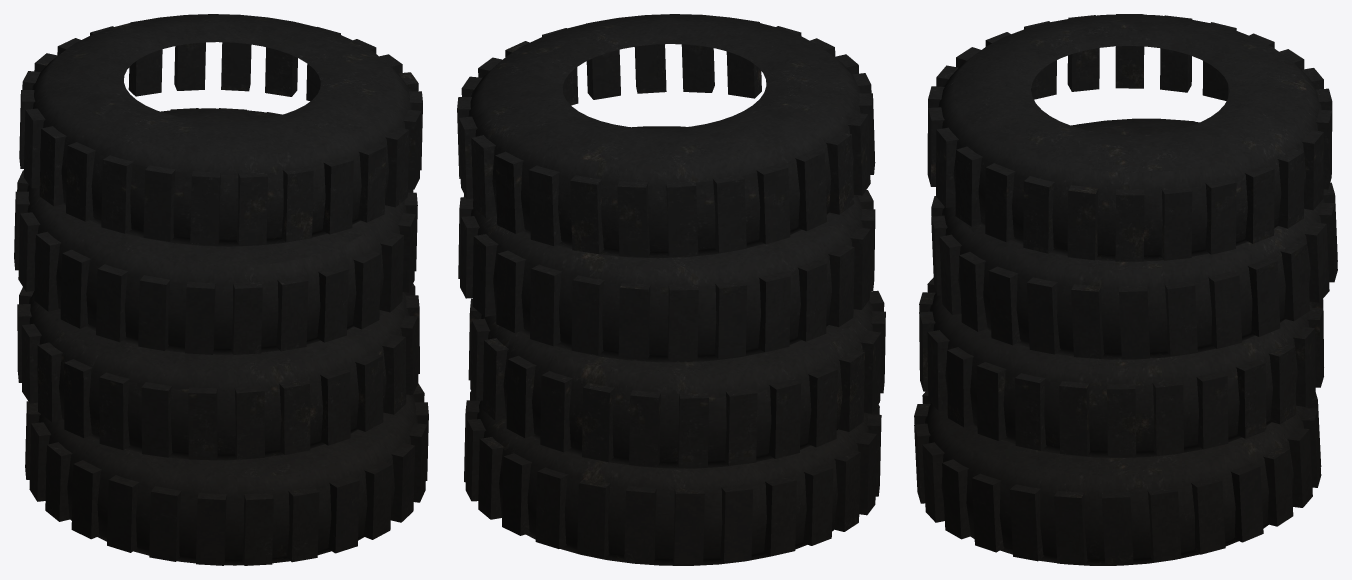
File: prop_tyres.glb
3 renders of one model, left to right at view 1: azimuth 30°, elevation 25°; view 2: azimuth 150°, elevation 25°; view 3: azimuth 270°, elevation 25°, orthographic. The views are drawn at different scales.
Parts seen in each view (by area): view 1: TyreStack; view 2: TyreStack; view 3: TyreStack.
Boxes of the visible parts, left/top/right/bottom form: TyreStack: left=14, top=14, right=428, bottom=565; TyreStack: left=457, top=14, right=885, bottom=565; TyreStack: left=914, top=14, right=1337, bottom=565.
Size of the model in its own units: 1.17 by 1.32 by 1.2.
1 material, 1 textured.
